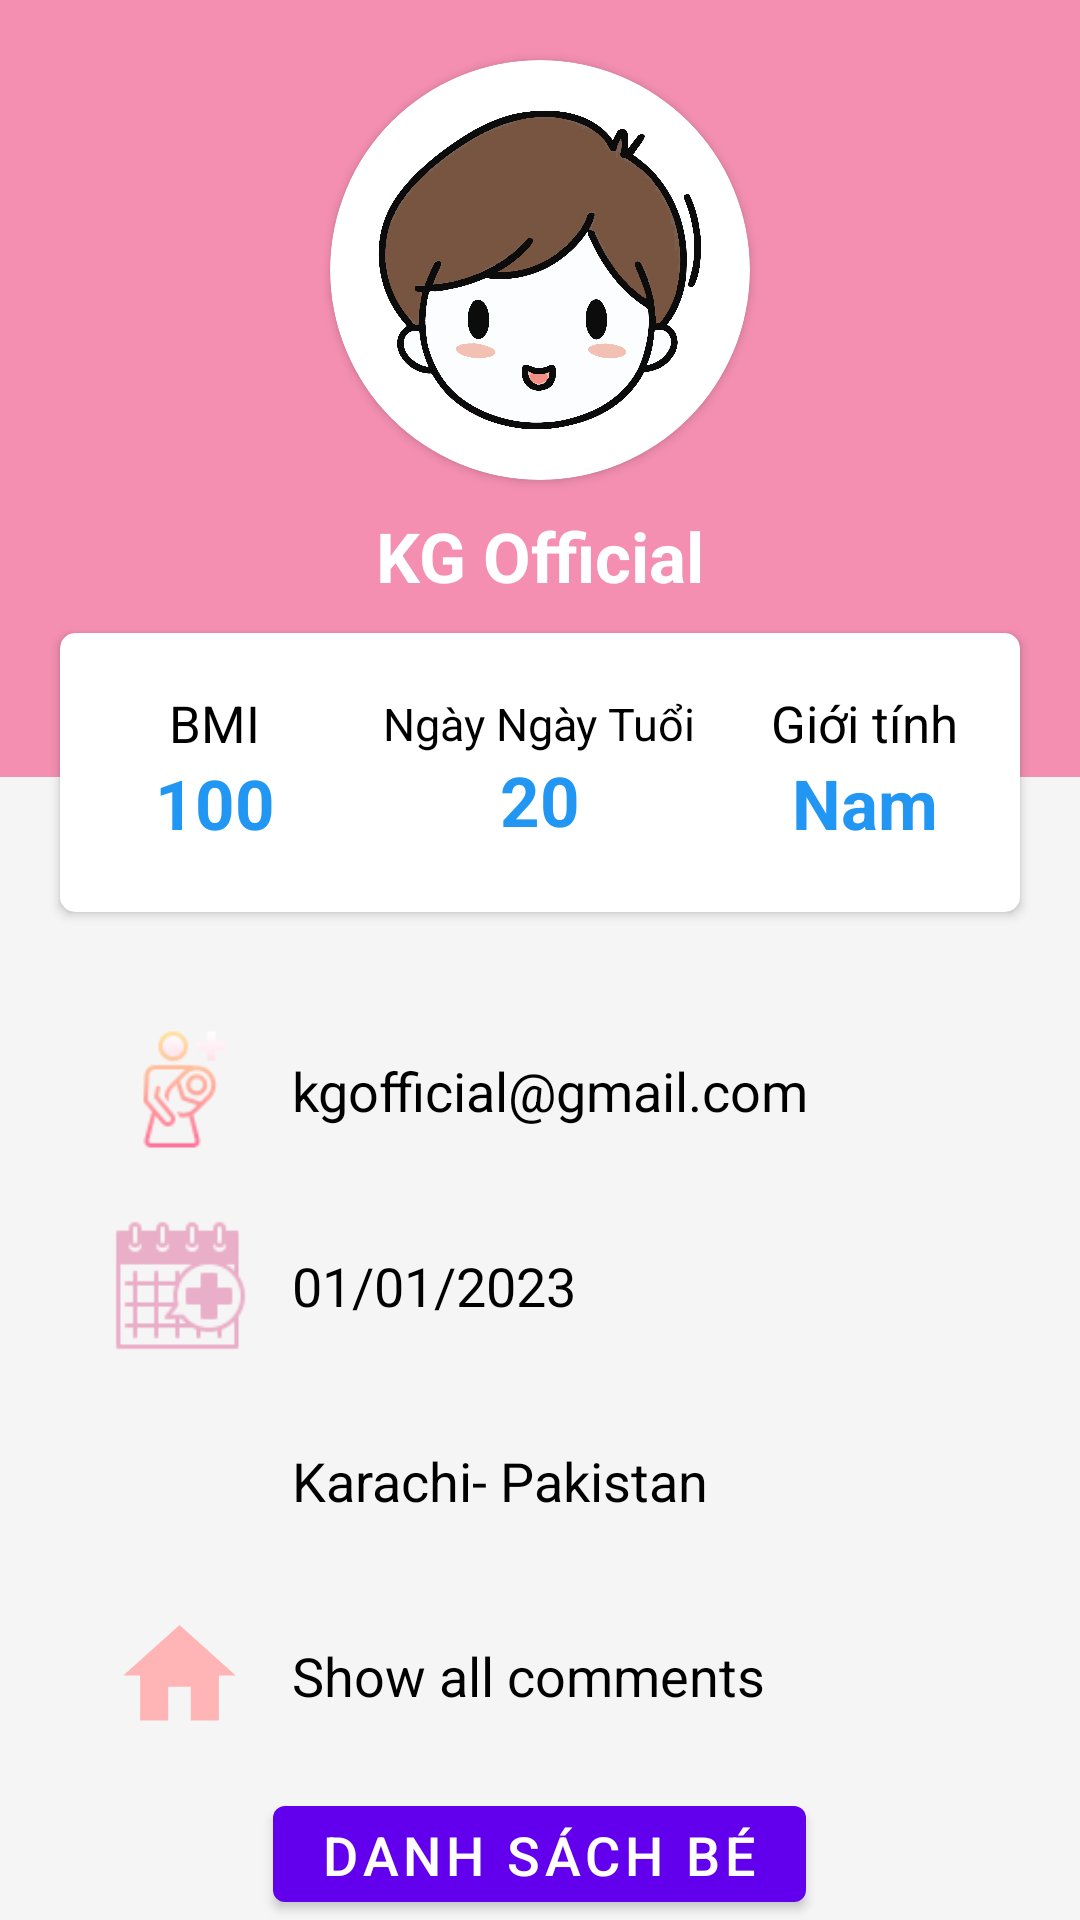

Icons on this 1080x1920 Android screen, each with the point to tap as (x=x, y=y):
appointment: (x=180, y=1285)
home: (x=179, y=1673)
mother: (x=179, y=1089)
